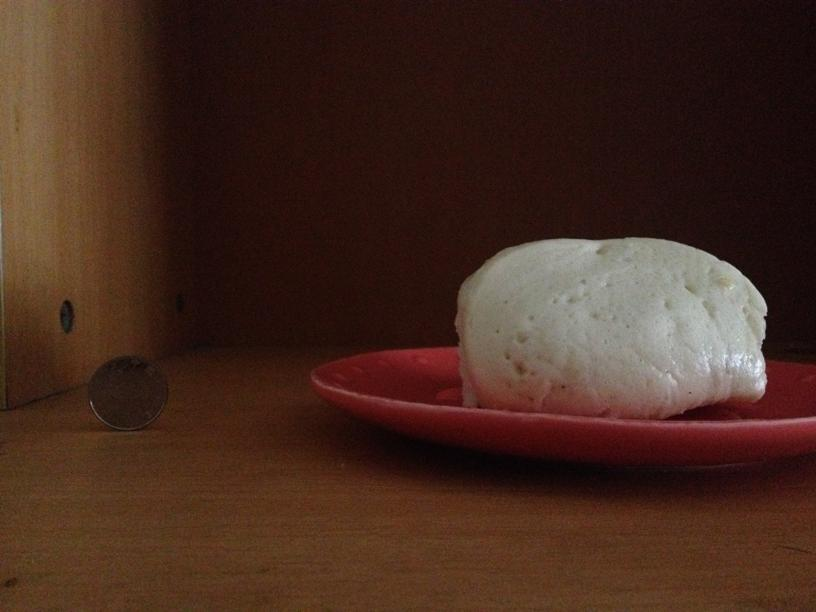bun: (452, 234, 766, 416)
coin: (87, 354, 169, 429)
